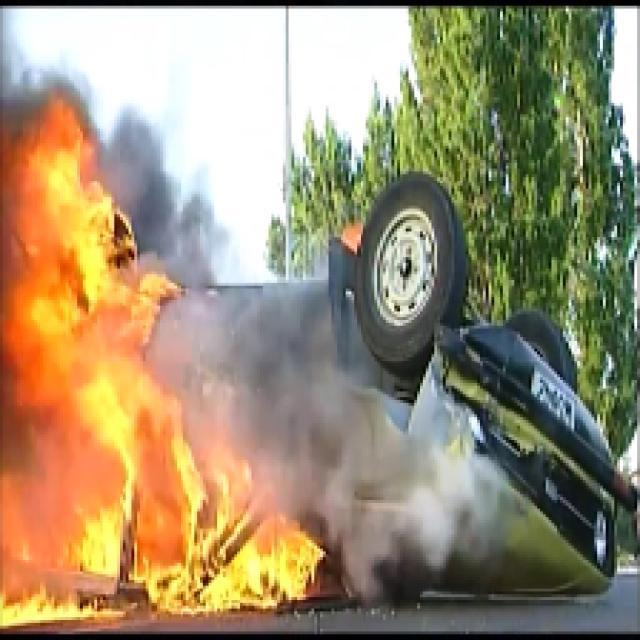Fire: (3, 97, 326, 632)
Smoke: (206, 292, 351, 494)
